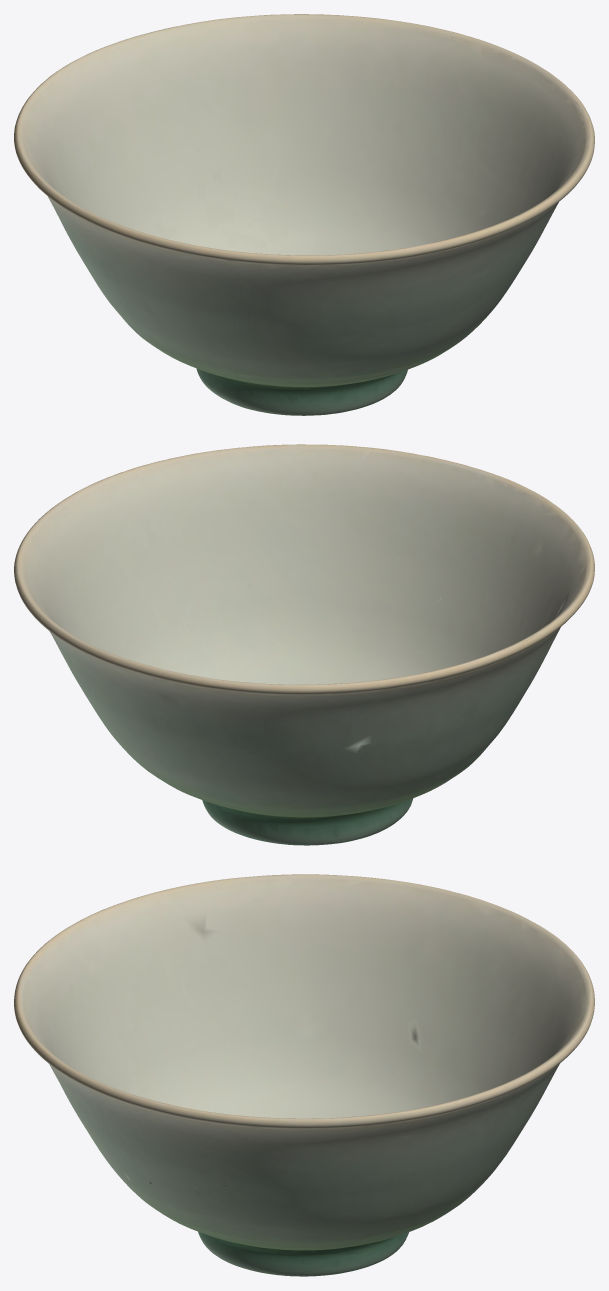
The model's file is linglong.glb.
3 renders of one model, top to bottom at view 1: azimuth 30°, elevation 25°; view 2: azimuth 150°, elevation 25°; view 3: azimuth 270°, elevation 25°, orthographic.
Parts seen in each view (by area): view 1: node_0; view 2: node_0; view 3: node_0.
Boxes of the visible parts, x1,y1,x2,y2 form: node_0: (14,14,594,415); node_0: (14,444,594,845); node_0: (14,874,594,1276).
Bounding box in the file's own units: 1.09 × 0.5 × 1.09.
Materials: 1 (1 with a texture image).
